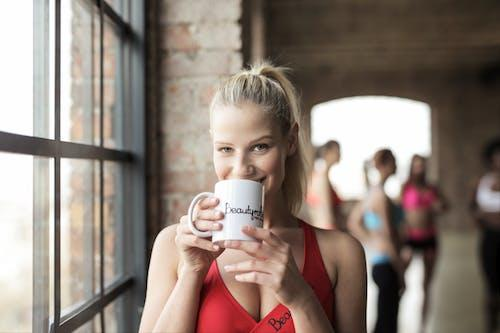Mug: (192, 175, 271, 258)
